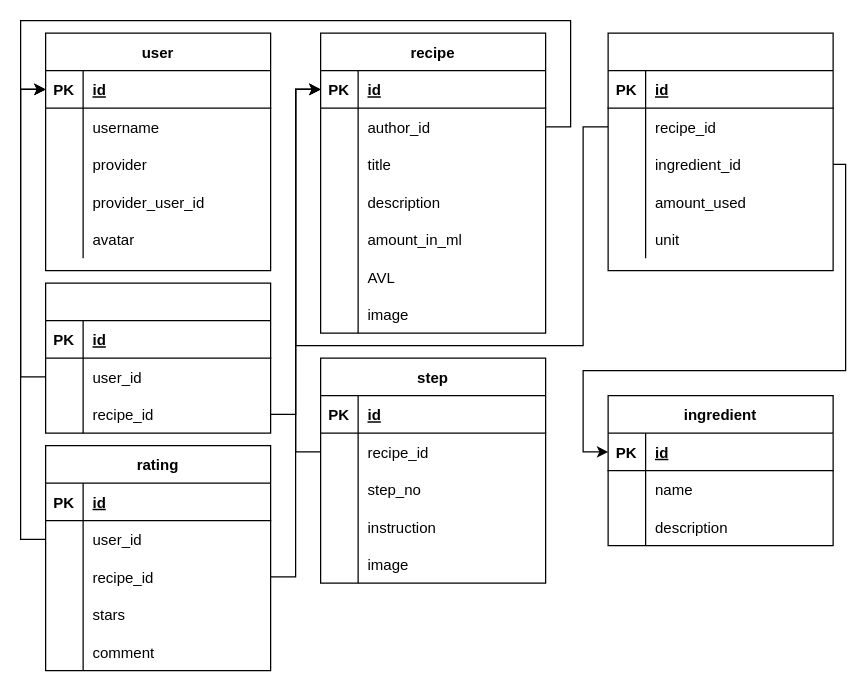
The diagram is 866 pixels wide and 691 high, and some of its shapes have lost their labels. Each missing label, with the box of its shape:
like: (44, 282, 271, 433)
makes_with: (607, 32, 833, 271)
